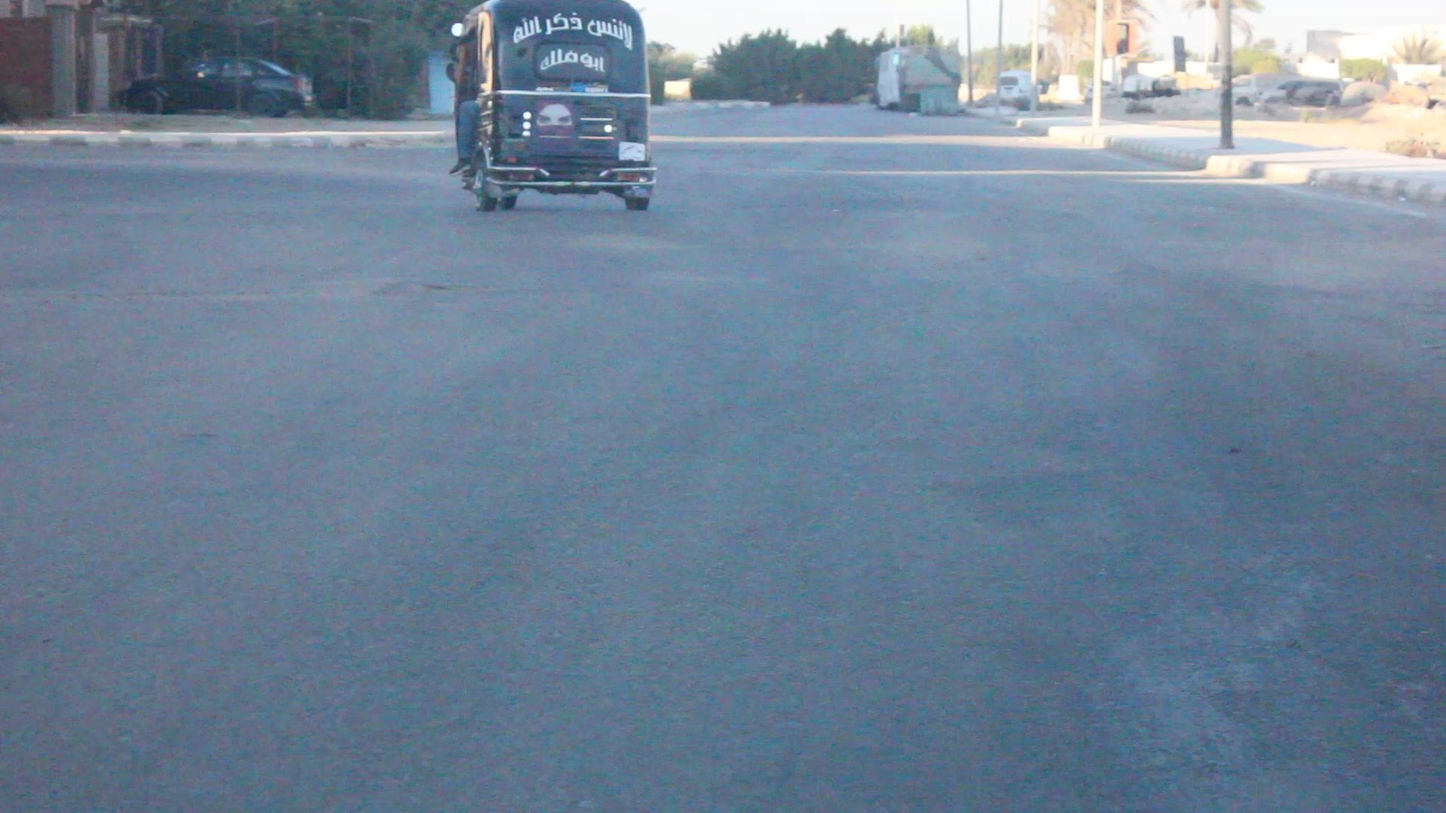Bump: (2, 205, 1446, 258)
